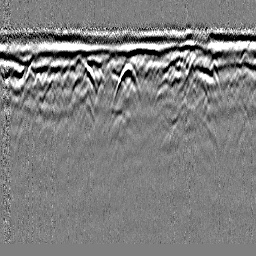cavity: (110, 60, 142, 107)
